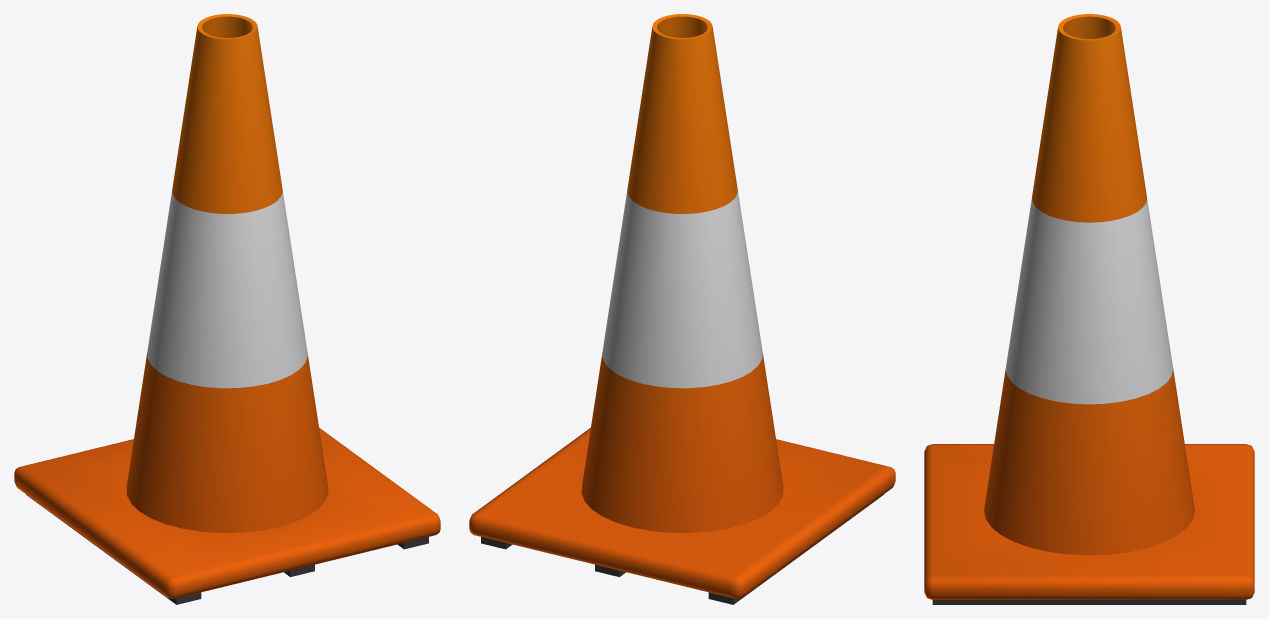
File: cone_i_small.glb
The picture shows the model from 3 angles, left to right: view 1: azimuth 30°, elevation 25°; view 2: azimuth 150°, elevation 25°; view 3: azimuth 270°, elevation 25°; orthographic projection. The views are drawn at different scales.
Visible parts, largest first — view 1: cone_i_small; view 2: cone_i_small; view 3: cone_i_small.
Boxes of the visible parts, box(x1,y1,x2,y2) form: cone_i_small: box(14, 14, 440, 604); cone_i_small: box(469, 14, 895, 604); cone_i_small: box(924, 14, 1254, 604).
Size of the model in its own units: 0.2667 by 0.4572 by 0.2667.
Materials: 1 (1 with a texture image).
